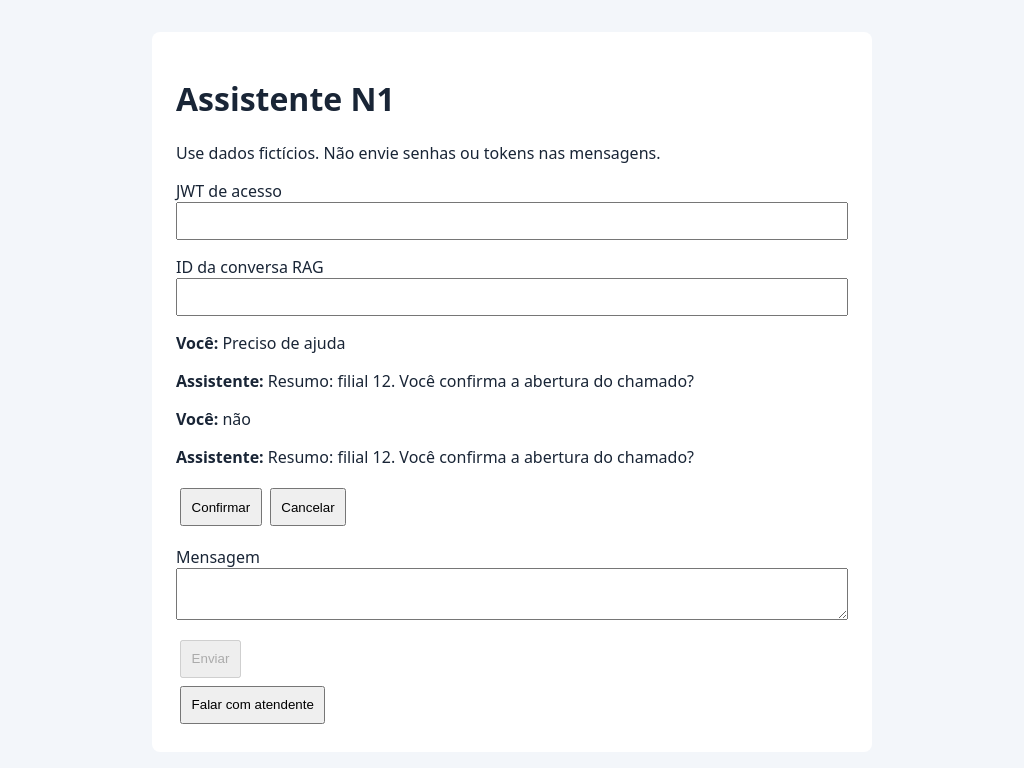
Test: botão falar com atendente pede o encaminhamento direto
Type "jwt-ficticio" into the password field labelled "JWT de acesso" at point(512, 221), box x1=176 y1=202 x2=848 y2=240
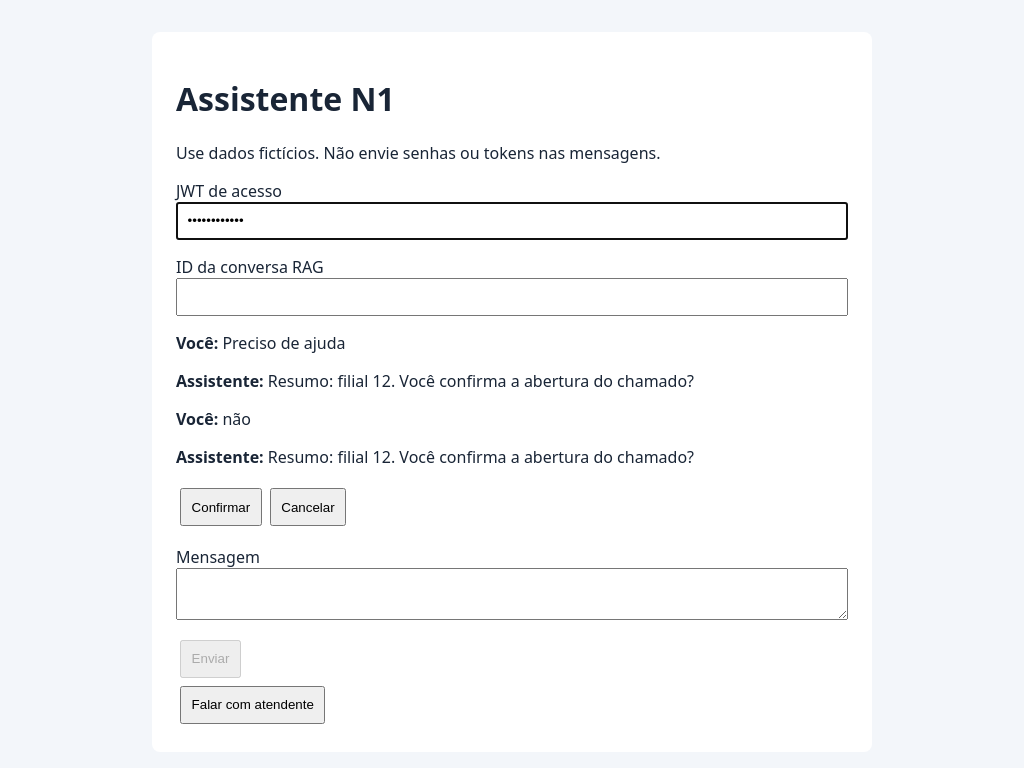
Type "rag-123" into the field labelled "ID da conversa RAG" at point(512, 297), box x1=176 y1=278 x2=848 y2=316
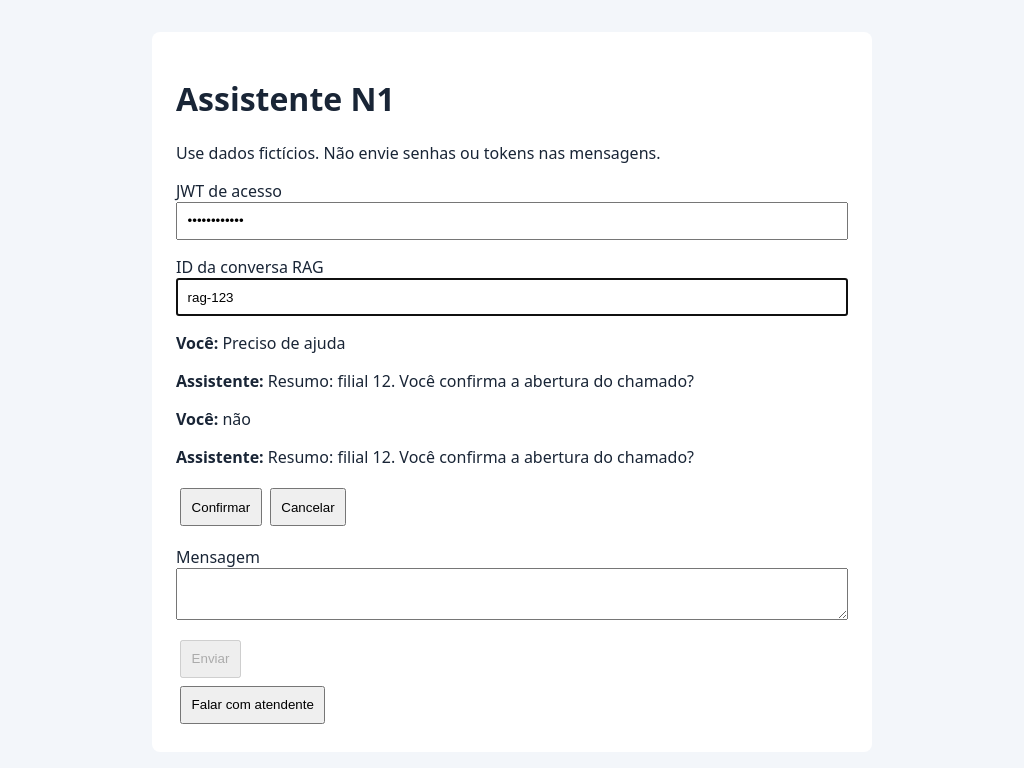
Click the button "Falar com atendente" at point(253, 705), box x1=180 y1=686 x2=325 y2=724
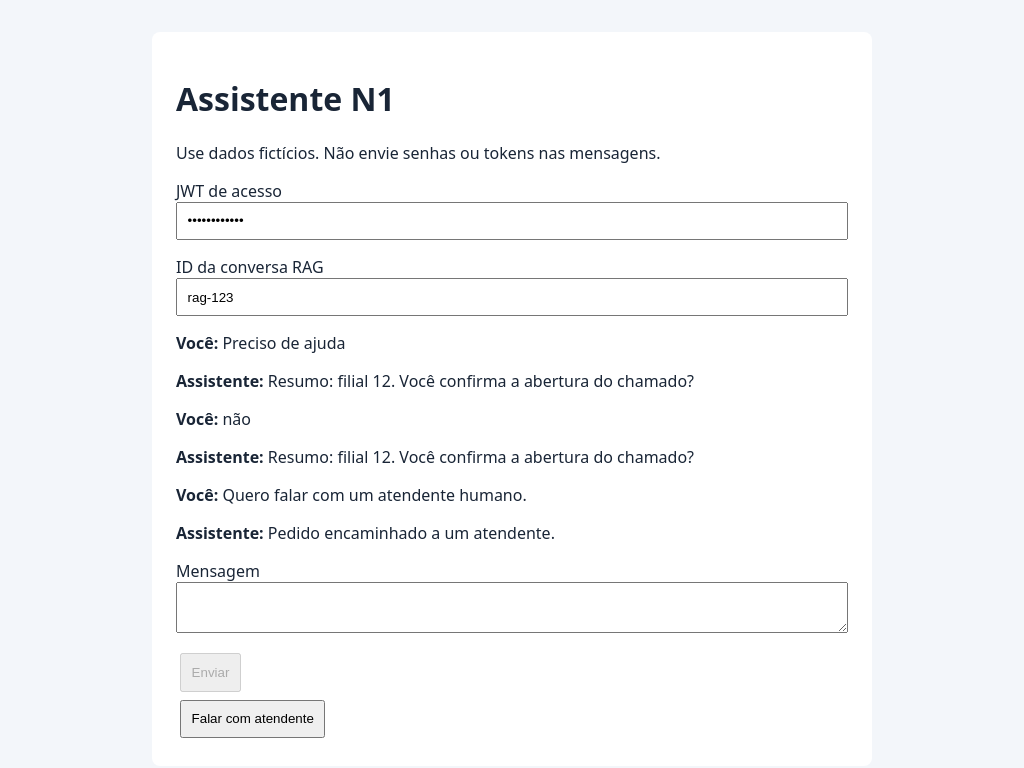
Expected: the text "Assistente: Pedido encaminhado a um atendente." is shown, x1=176 y1=522 x2=555 y2=544
